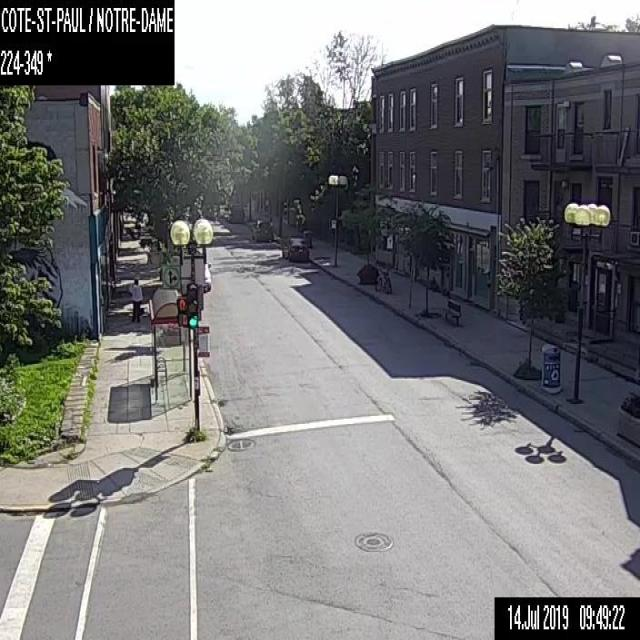pedestrian: (127, 276, 141, 321)
vehicle: (281, 236, 307, 261), (251, 224, 272, 241), (225, 205, 242, 223)
